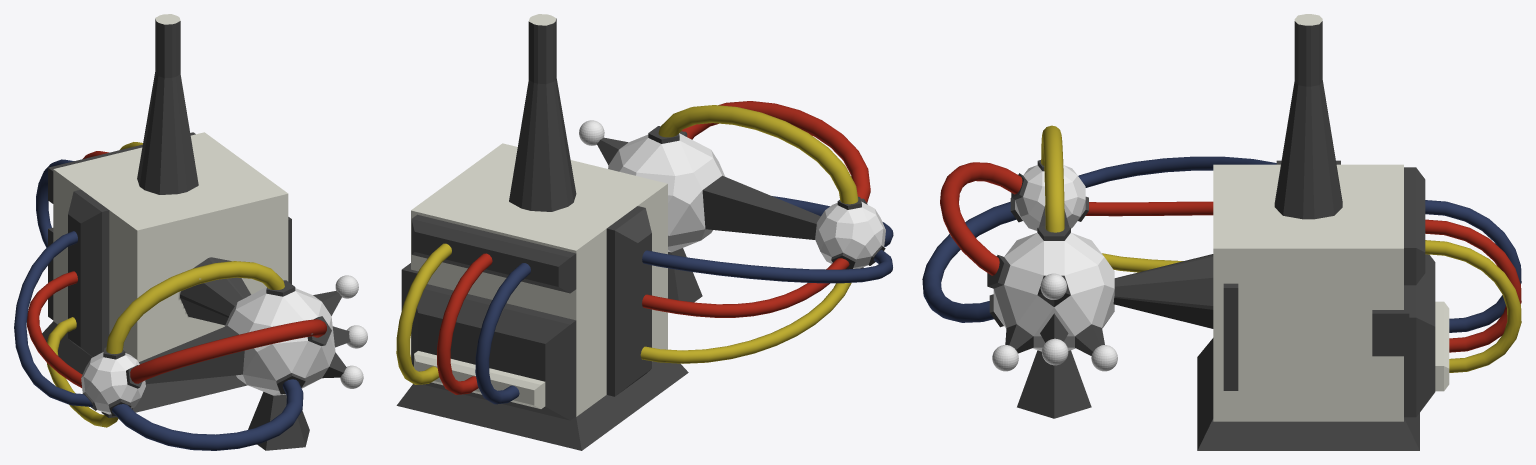
Rendered from GeneradorArañas.fbx.
The picture shows the model from 3 angles, left to right: view 1: azimuth 30°, elevation 25°; view 2: azimuth 150°, elevation 25°; view 3: azimuth 270°, elevation 25°; orthographic projection. The views are drawn at different scales.
Visible parts, largest first — view 1: Cube, Cube.001; view 2: Cube, Cube.001; view 3: Cube, Cube.001.
Part boxes in pixels (x1=…): Cube: x1=14, y1=14, x2=367, y2=450; Cube.001: x1=199, y1=132, x2=291, y2=283; Cube: x1=396, y1=14, x2=893, y2=450; Cube.001: x1=401, y1=143, x2=508, y2=357; Cube: x1=922, y1=14, x2=1521, y2=450; Cube.001: x1=1213, y1=245, x2=1409, y2=421.
Size of the model in its own units: 427 by 444 by 628.
3 materials, 1 textured.
